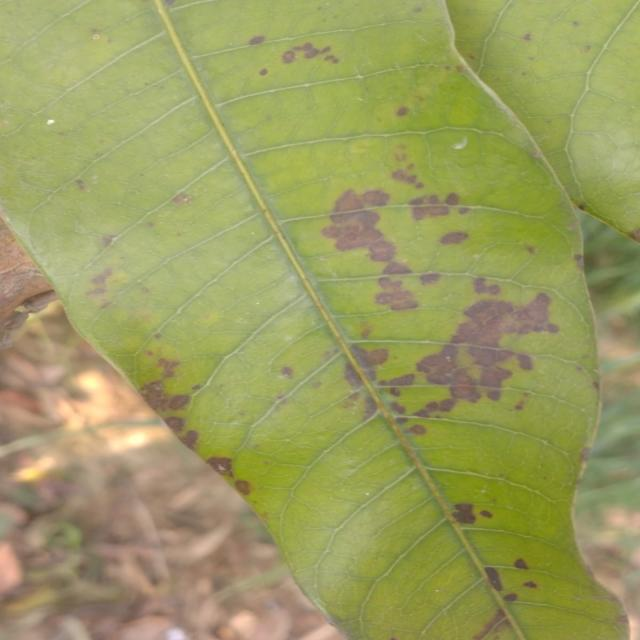Anthracnose: (320, 179, 555, 408), (165, 355, 284, 445), (260, 30, 351, 72)
